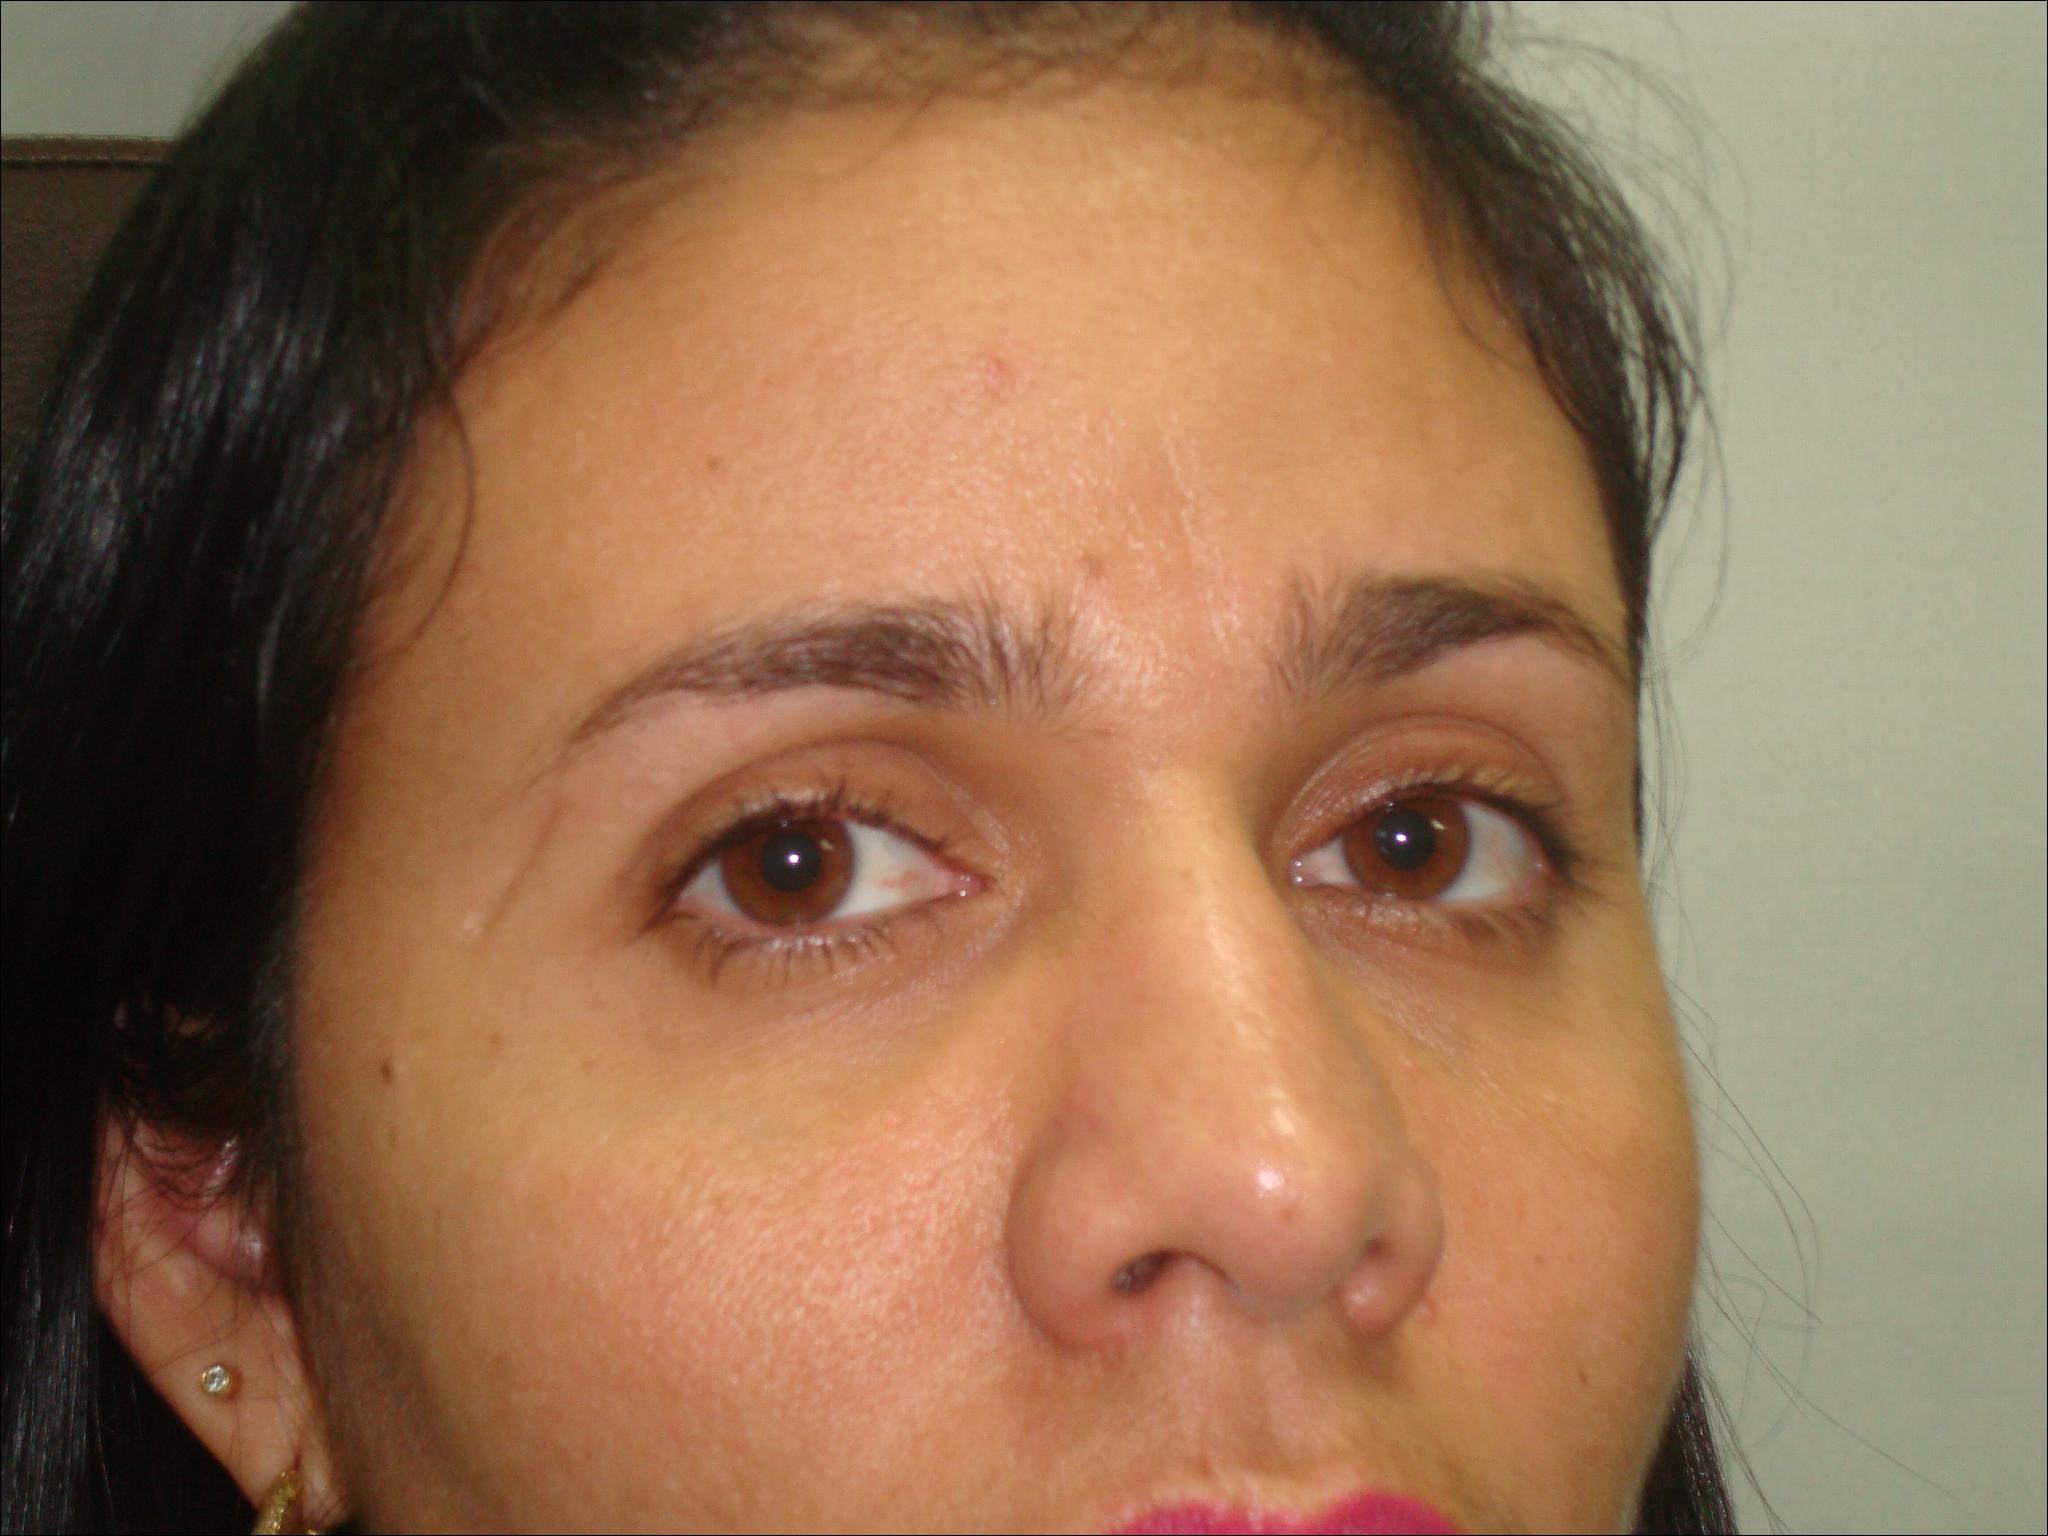flash: (784, 849, 803, 870), (1393, 829, 1411, 845)
limbo: (722, 802, 858, 916), (1347, 776, 1466, 897)
